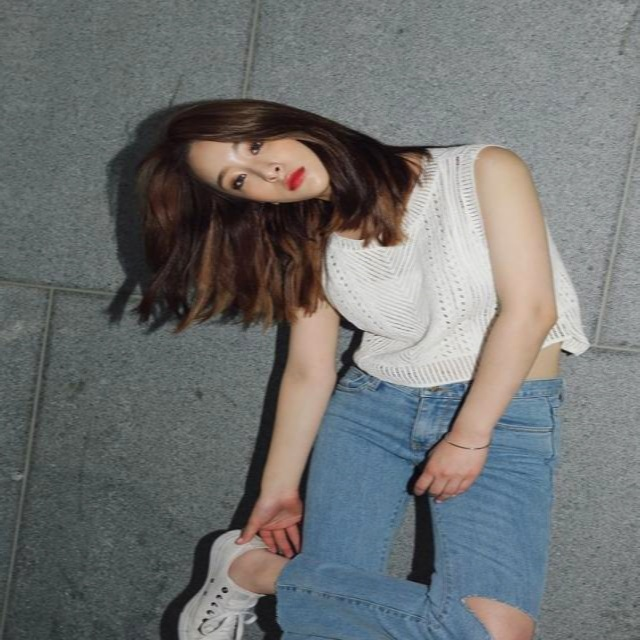Sleeveless: (290, 143, 558, 315)
ripped_pants: (270, 379, 572, 640), (289, 360, 476, 577)
